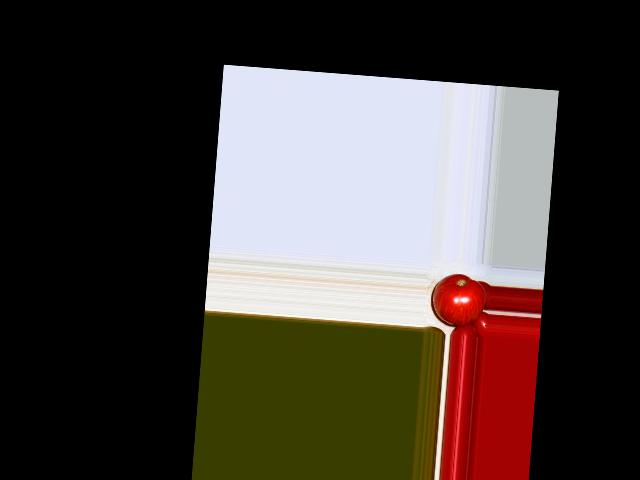tomato: (430, 271, 487, 328)
